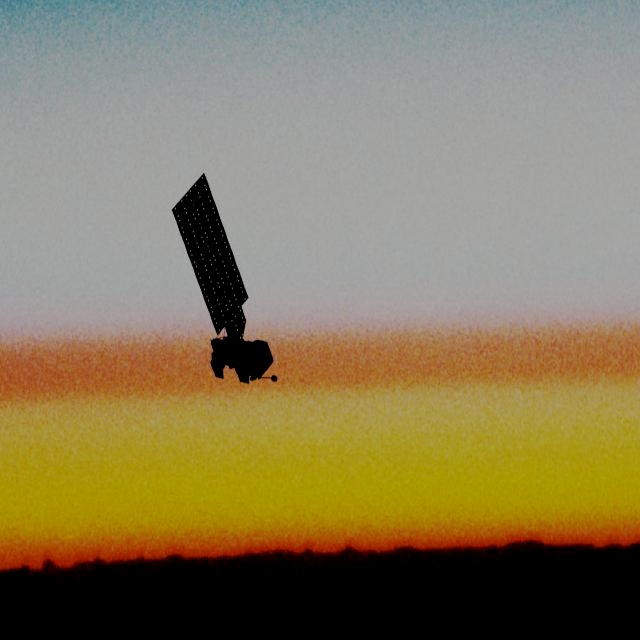satellite: (173, 166, 281, 388)
